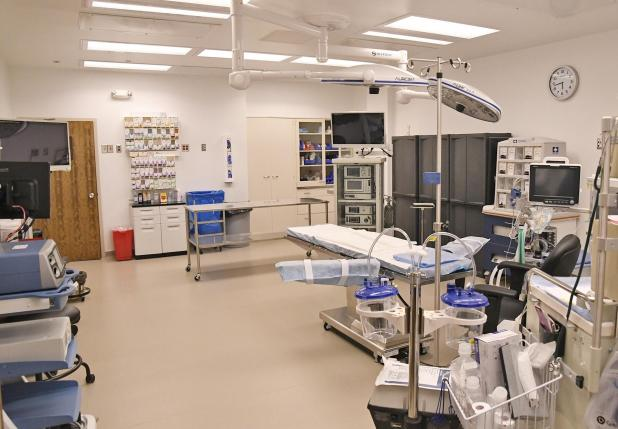bedside_monitor: (528, 161, 583, 211), (332, 110, 385, 149)
cabinet: (250, 119, 346, 240)
chair: (468, 233, 582, 336)
computer: (1, 163, 54, 228), (1, 120, 70, 168)
door_handle: (87, 190, 97, 201)
handle: (263, 175, 271, 181), (273, 175, 281, 181)
iv_pole: (405, 56, 472, 429)
medical_drawer: (128, 200, 189, 258)
operating_bed: (286, 222, 476, 365)
surgical_light: (427, 77, 503, 122)
utility_cart: (185, 198, 329, 283)
waste_bin: (225, 199, 250, 243), (111, 226, 134, 264)
